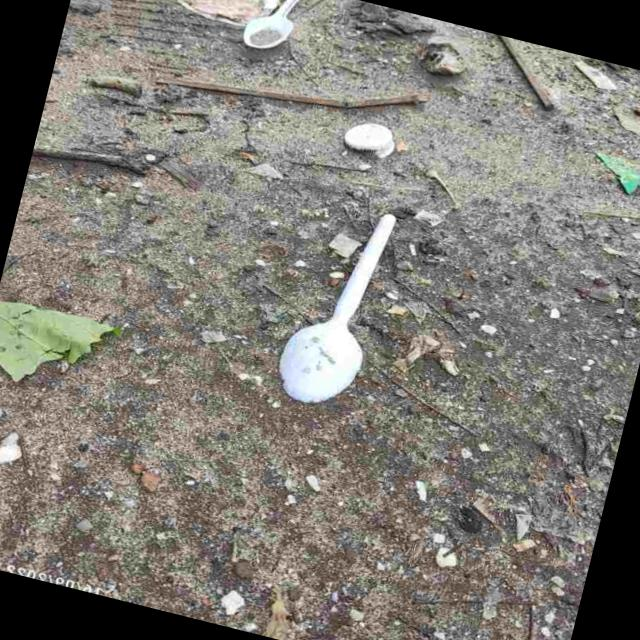nhua: (279, 214, 396, 403), (242, 0, 298, 47), (343, 122, 394, 157)
rac_huu_co: (0, 301, 118, 381), (156, 76, 427, 108), (498, 34, 555, 109), (31, 146, 146, 174)
